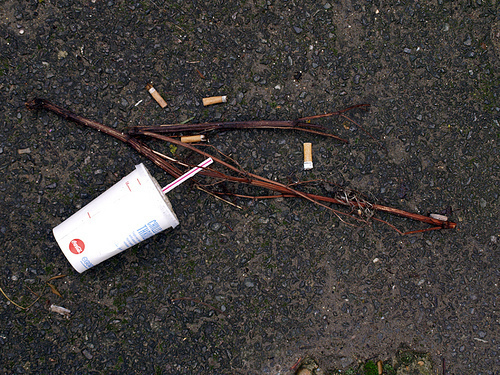litter: (49, 159, 212, 274), (147, 85, 167, 108), (302, 143, 314, 169), (203, 95, 227, 106), (178, 135, 208, 143)
